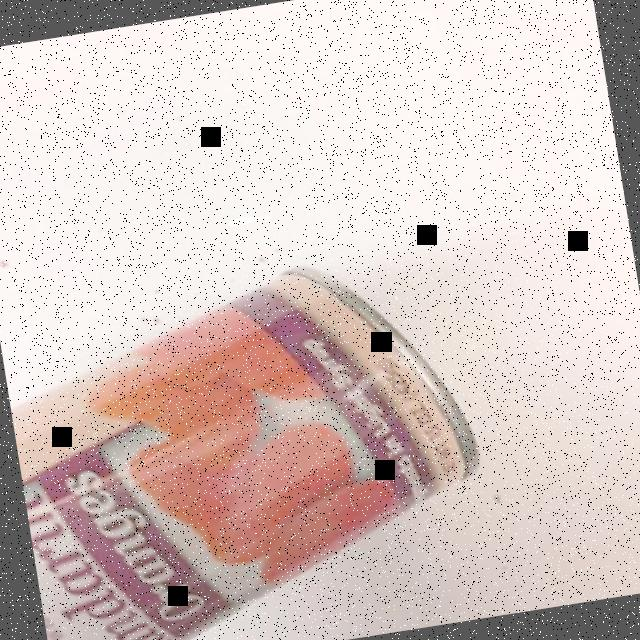can: (0, 239, 508, 640)
